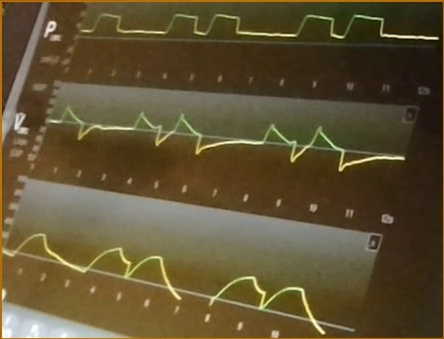Double_Triggering Flow: (48, 100, 404, 174)
Double_Triggering Volume: (5, 227, 329, 334)
